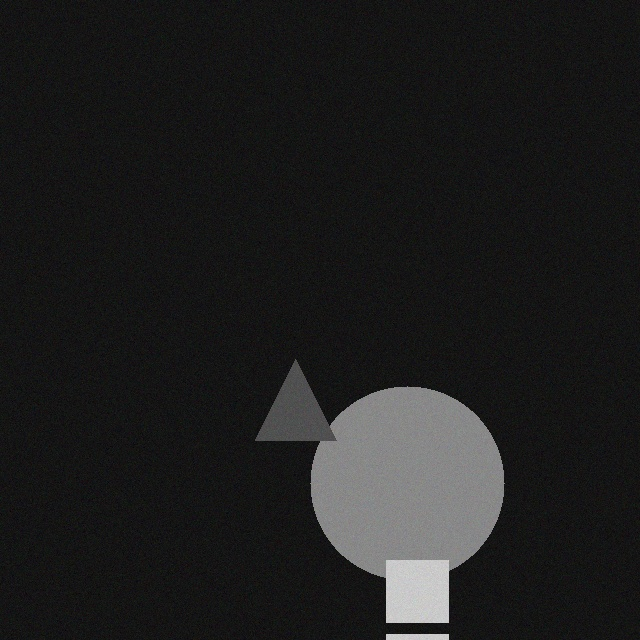circle: (295, 397, 489, 591)
square: (371, 571, 433, 633)
triangle: (240, 370, 321, 451)
